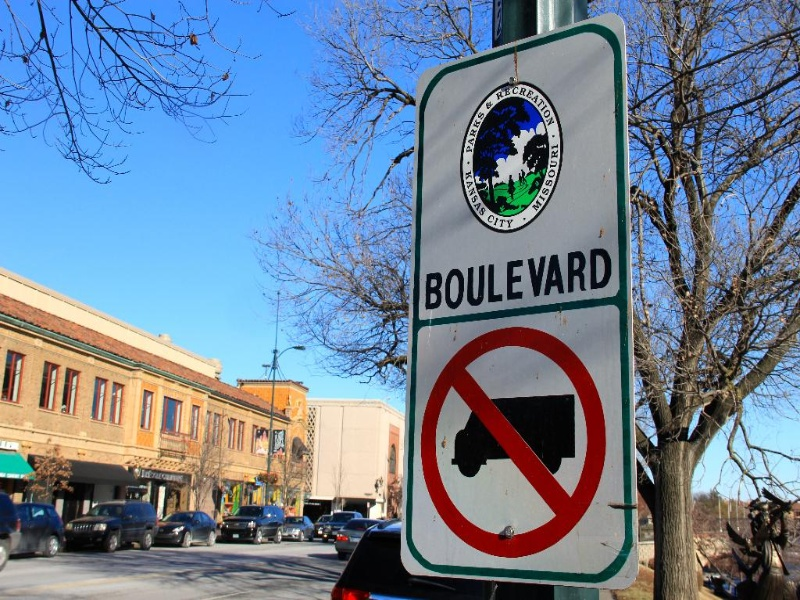no_truck: (410, 323, 616, 561)
